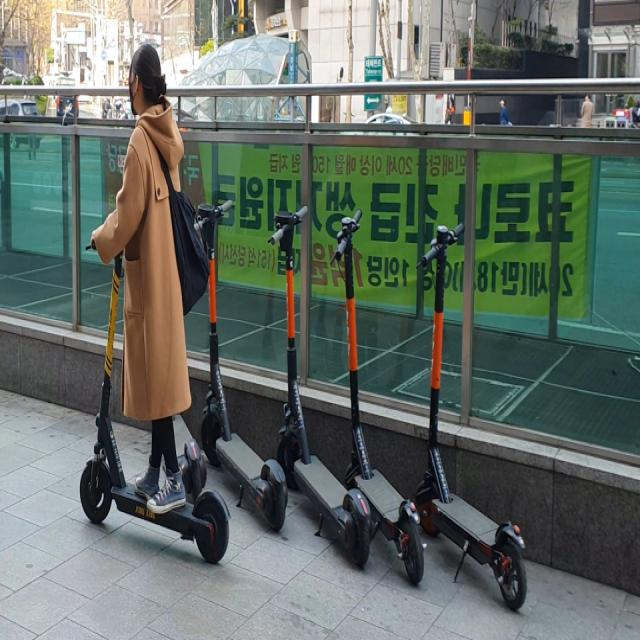non-helmet: (52, 3, 240, 584)
